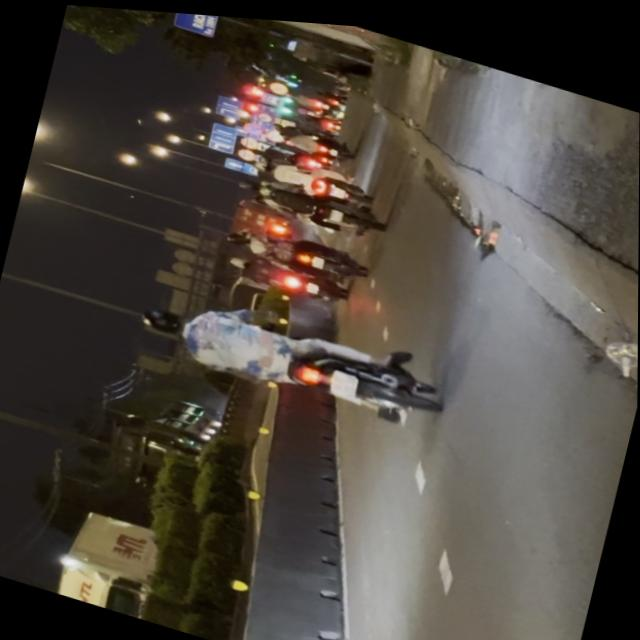helmet: (136, 301, 186, 338)
licenseplate: (129, 273, 448, 433)
nohelmet: (326, 364, 357, 396)
